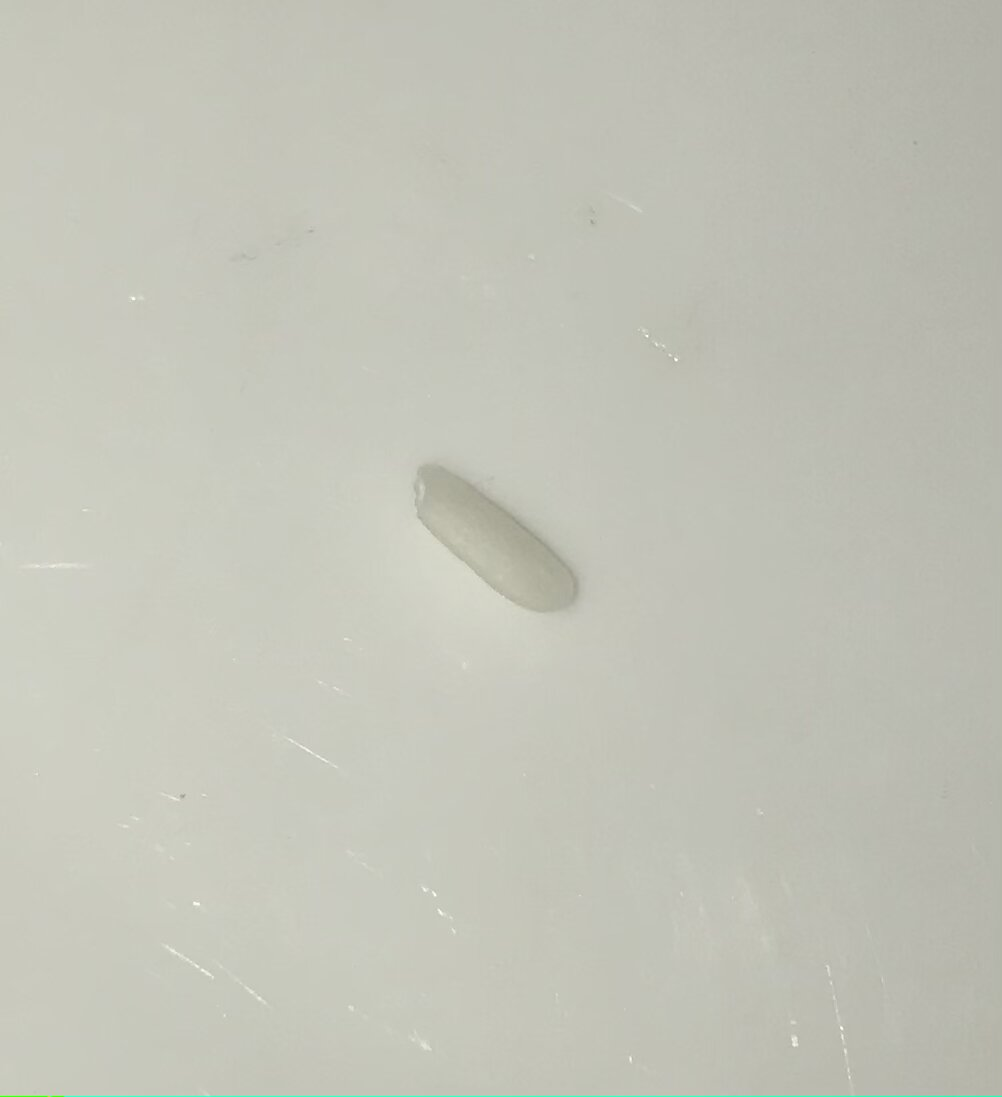Gao Lai Sua: (410, 452, 586, 627)
